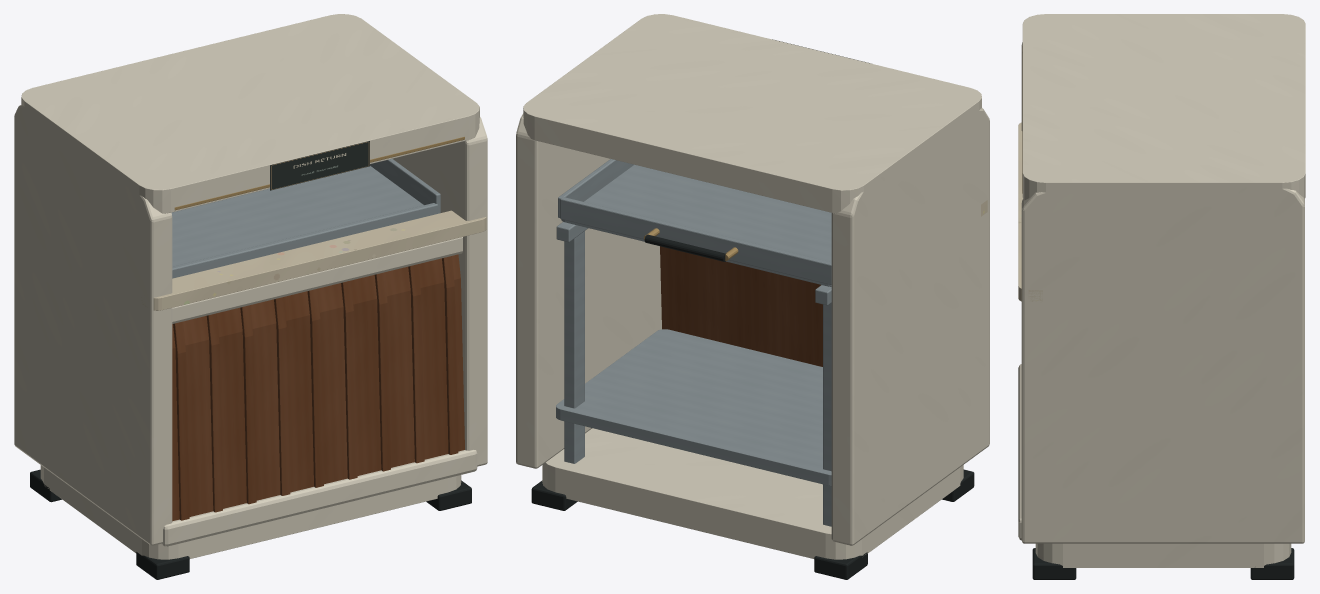
The model's file is AST-HSP-004.glb.
3 views of the same model, side by side, from view 1: azimuth 30°, elevation 25°; view 2: azimuth 150°, elevation 25°; view 3: azimuth 270°, elevation 25° (orthographic). The views are drawn at different scales.
Parts seen in each view (by area): view 1: AST-HSP-004__static__ivory_enamel, AST-HSP-004__static__warm_walnut, AST-HSP-004__RECEIVING_CADDY__staff_zinc, AST-HSP-004__static__warm_stone, AST-HSP-004__static__hospitality_station_graphics, AST-HSP-004__static__dark_rubber, AST-HSP-004__static__champagne_metal; view 2: AST-HSP-004__static__ivory_enamel, AST-HSP-004__static__staff_zinc, AST-HSP-004__RECEIVING_CADDY__staff_zinc, AST-HSP-004__static__warm_walnut, AST-HSP-004__static__dark_rubber, AST-HSP-004__RECEIVING_CADDY__dark_rubber; view 3: AST-HSP-004__static__ivory_enamel, AST-HSP-004__static__dark_rubber, AST-HSP-004__static__warm_stone.
Boxes of the visible parts, <box> form: AST-HSP-004__static__ivory_enamel: <box>14,14,487,559</box>; AST-HSP-004__static__warm_walnut: <box>172,254,464,521</box>; AST-HSP-004__RECEIVING_CADDY__staff_zinc: <box>171,159,440,278</box>; AST-HSP-004__static__warm_stone: <box>141,210,486,310</box>; AST-HSP-004__static__hospitality_station_graphics: <box>270,141,369,190</box>; AST-HSP-004__static__dark_rubber: <box>30,469,471,579</box>; AST-HSP-004__static__champagne_metal: <box>174,136,464,210</box>; AST-HSP-004__static__ivory_enamel: <box>516,14,989,559</box>; AST-HSP-004__static__staff_zinc: <box>556,221,831,526</box>; AST-HSP-004__RECEIVING_CADDY__staff_zinc: <box>558,159,831,286</box>; AST-HSP-004__static__warm_walnut: <box>660,246,822,366</box>; AST-HSP-004__static__dark_rubber: <box>531,469,974,579</box>; AST-HSP-004__RECEIVING_CADDY__dark_rubber: <box>644,234,726,261</box>; AST-HSP-004__static__ivory_enamel: <box>1018,14,1305,567</box>; AST-HSP-004__static__dark_rubber: <box>1032,548,1294,579</box>; AST-HSP-004__static__warm_stone: <box>1018,122,1042,301</box>.
Size of the model in its own units: 1.1 by 1.23 by 0.792.
Materials: 7 (7 with a texture image).
